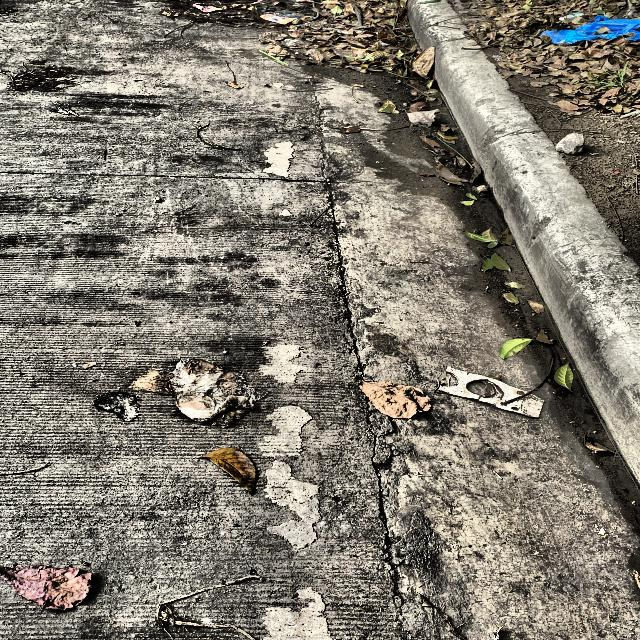no_or_faded_road_markings: (258, 404, 325, 554), (262, 583, 332, 640), (263, 341, 320, 390), (265, 143, 295, 175)
